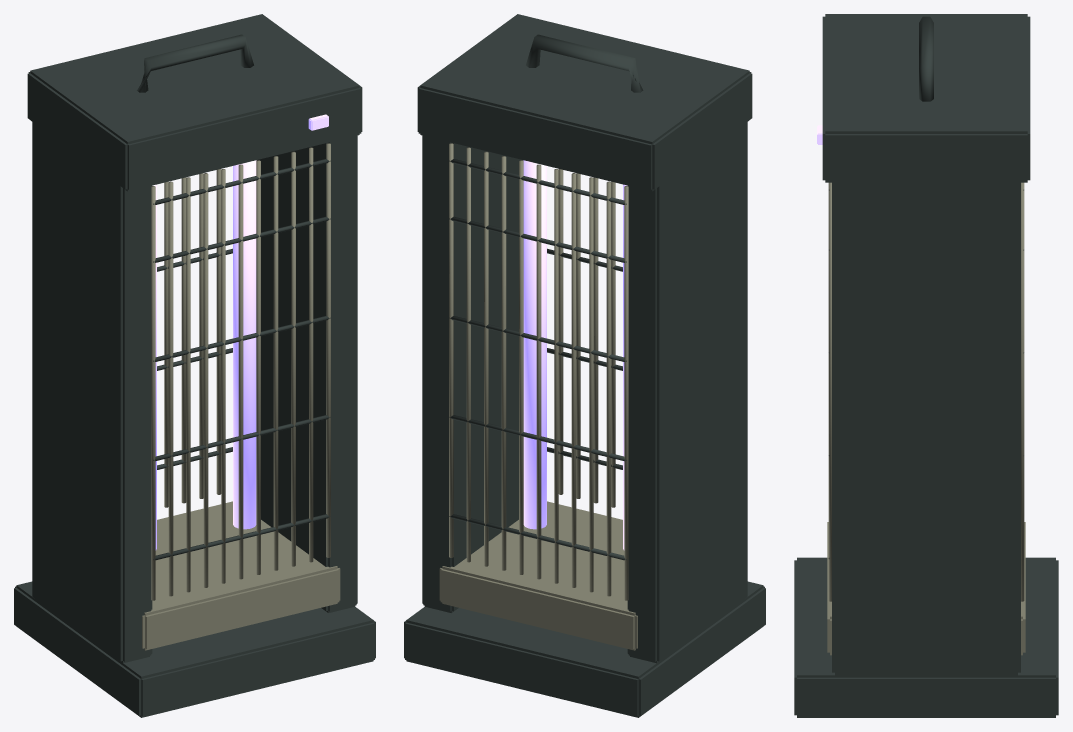
Rendered from bug-zapper.glb.
The picture shows the model from 3 angles, left to right: view 1: azimuth 30°, elevation 25°; view 2: azimuth 150°, elevation 25°; view 3: azimuth 270°, elevation 25°; orthographic projection. The views are drawn at different scales.
Visible parts, largest first — view 1: Side housing.002, Top housing.001, Side housing.003, Weighted floor base.001, Removable insect tray.001, UV lamp.003, Protective vertical grille.025, Protective vertical grille.023, Protective vertical grille.027, Protective vertical grille.029, Protective vertical grille.022, Protective vertical grille.032 (+16 smaller); view 2: Side housing.002, Top housing.001, Side housing.003, Weighted floor base.001, Removable insect tray.001, UV lamp.003, Protective vertical grille.036, Protective vertical grille.034, Protective vertical grille.038, Protective vertical grille.040, Protective vertical grille.033, Protective vertical grille.043 (+16 smaller); view 3: Side housing.003, Top housing.001, Weighted floor base.001, Protective vertical grille.032, Protective vertical grille.043, Carry handle.001, Removable insect tray.001.
Part boxes in pixels (x1,y1,x2,y2): Side housing.002: (32,122,152,663); Top housing.001: (27,14,362,191); Side housing.003: (256,135,357,612); Weighted floor base.001: (14,581,375,717); Removable insect tray.001: (142,501,340,650); UV lamp.003: (233,160,256,529); Protective vertical grille.025: (203,173,208,587); Protective vertical grille.023: (168,181,173,596); Protective vertical grille.027: (238,164,243,579); Protective vertical grille.029: (273,156,278,570); Protective vertical grille.022: (151,186,155,600); Protective vertical grille.032: (326,143,330,557); Side housing.002: (627,122,747,663); Top housing.001: (417,14,752,191); Side housing.003: (422,135,523,612); Weighted floor base.001: (404,581,765,717); Removable insect tray.001: (439,501,637,650); UV lamp.003: (523,160,546,529); Protective vertical grille.036: (571,173,576,587); Protective vertical grille.034: (606,181,611,596); Protective vertical grille.038: (536,164,541,579); Protective vertical grille.040: (501,156,506,570); Protective vertical grille.033: (624,186,628,600); Protective vertical grille.043: (449,143,453,557); Side housing.003: (832,165,1020,675); Top housing.001: (822,14,1030,182); Weighted floor base.001: (794,557,1058,717); Protective vertical grille.032: (828,182,831,601); Protective vertical grille.043: (1021,182,1024,601); Carry handle.001: (919,16,933,101); Removable insect tray.001: (827,522,1025,655).
Size of the model in its own units: 0.3 by 0.7217 by 0.28.
